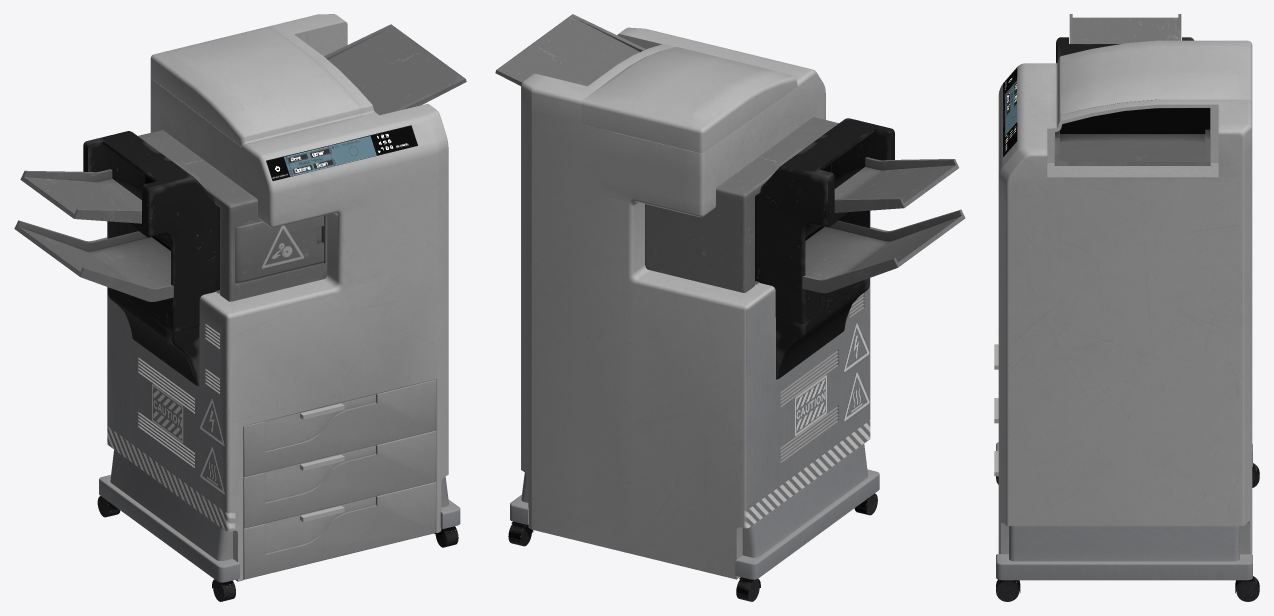
The model's file is printer.gltf.
3 views of the same model, side by side, from view 1: azimuth 30°, elevation 25°; view 2: azimuth 150°, elevation 25°; view 3: azimuth 270°, elevation 25° (orthographic). The views are drawn at different scales.
Visible parts, largest first — view 1: PrinterBody, PrinterScanDoor, PrinterPaperHousingEntrance, PaperSheetTray2, PaperSheetTray3, defaultMaterial.007, Wheels, UpperTray, ThirdLowerTray, PrinterPaperHousing, PrinterDoor, SecondLowerTray (+1 smaller); view 2: PrinterBody, PrinterScanDoor, PrinterPaperHousingEntrance, PrinterPaperHousing, Wheels, ThirdLowerTray, UpperTray, SecondLowerTray, PrinterPaperHousingEntranceDown; view 3: PrinterBody, Wheels, PrinterScanDoor, UpperTray, SecondLowerTray, PrinterPaperHousingEntrance.
Part boxes in pixels (bbox=[...]): PrinterBody: bbox=[107, 14, 448, 581]; PrinterScanDoor: bbox=[150, 26, 361, 146]; PrinterPaperHousingEntrance: bbox=[83, 131, 219, 331]; PaperSheetTray2: bbox=[243, 430, 435, 528]; PaperSheetTray3: bbox=[243, 379, 435, 477]; defaultMaterial.007: bbox=[243, 482, 435, 579]; Wheels: bbox=[97, 449, 460, 601]; UpperTray: bbox=[324, 24, 466, 115]; ThirdLowerTray: bbox=[14, 220, 173, 301]; PrinterPaperHousing: bbox=[138, 130, 327, 301]; PrinterDoor: bbox=[235, 215, 324, 281]; SecondLowerTray: bbox=[20, 169, 141, 223]; PrinterBody: bbox=[521, 27, 870, 579]; PrinterScanDoor: bbox=[581, 47, 797, 153]; PrinterPaperHousingEntrance: bbox=[755, 118, 894, 323]; PrinterPaperHousing: bbox=[645, 117, 838, 292]; Wheels: bbox=[508, 444, 879, 601]; ThirdLowerTray: bbox=[802, 209, 965, 293]; UpperTray: bbox=[495, 14, 645, 86]; SecondLowerTray: bbox=[834, 157, 958, 212]; PrinterPaperHousingEntranceDown: bbox=[776, 278, 869, 379]; PrinterBody: bbox=[998, 63, 1252, 554]; Wheels: bbox=[996, 442, 1259, 601]; PrinterScanDoor: bbox=[1055, 40, 1252, 121]; UpperTray: bbox=[1054, 129, 1210, 165]; SecondLowerTray: bbox=[1069, 14, 1181, 43]; PrinterPaperHousingEntrance: bbox=[1056, 37, 1193, 62].
Size of the model in its own units: 1.24 by 1.39 by 0.7069.
9 materials, 9 textured.
